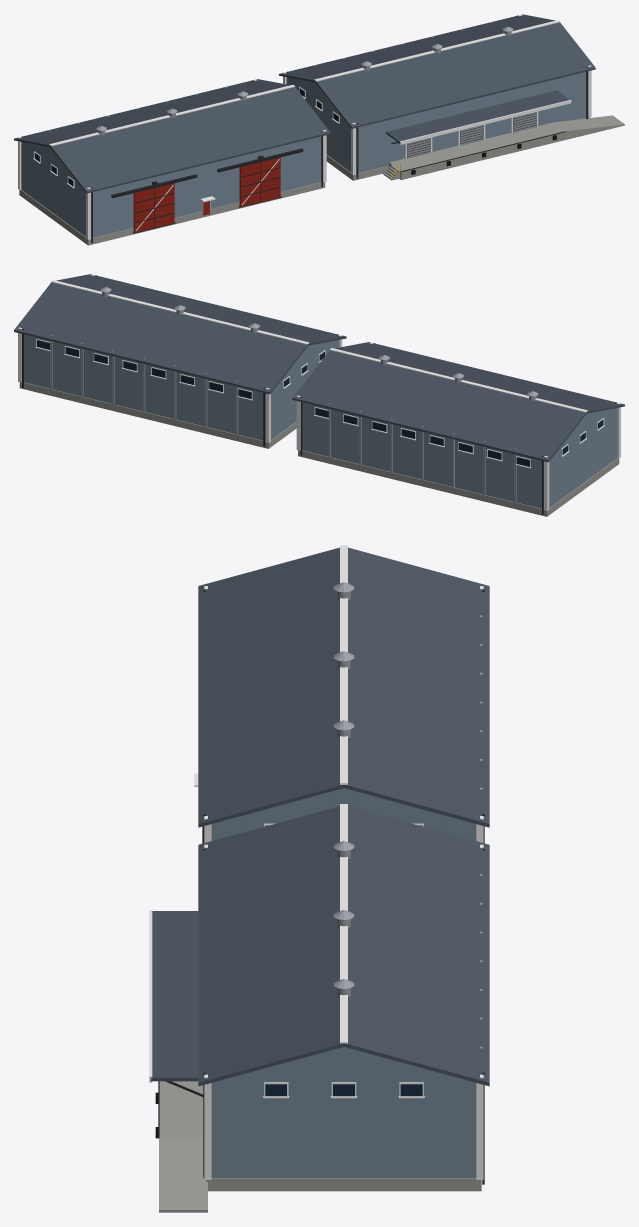
Rendered from SM_Harbor_Warehouse.fbx.
The picture shows the model from 3 angles, top to bottom: view 1: azimuth 30°, elevation 25°; view 2: azimuth 150°, elevation 25°; view 3: azimuth 270°, elevation 25°; orthographic projection. The views are drawn at different scales.
Visible parts, largest first — view 1: SM_Harbor_Warehouse; view 2: SM_Harbor_Warehouse; view 3: SM_Harbor_Warehouse.
Boxes of the visible parts, <box> form: SM_Harbor_Warehouse: <box>14,14,624,245</box>; SM_Harbor_Warehouse: <box>14,274,624,516</box>; SM_Harbor_Warehouse: <box>149,545,489,1212</box>.
Bounding box in the file's own units: 89.7 × 13.45 × 25.
